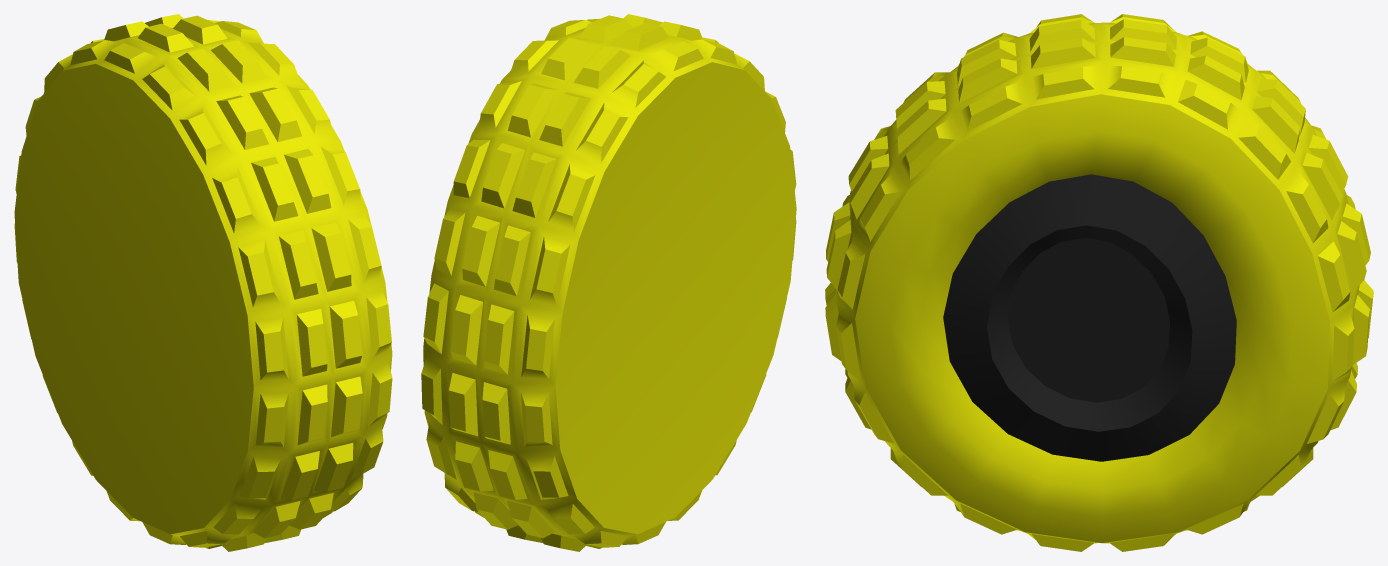
File: Deseases_04.fbx
The picture shows the model from 3 angles, left to right: view 1: azimuth 30°, elevation 25°; view 2: azimuth 150°, elevation 25°; view 3: azimuth 270°, elevation 25°; orthographic projection. The views are drawn at different scales.
Parts seen in each view (by area): view 1: Tire; view 2: Tire; view 3: Tire.
Part boxes in pixels (<box>): Tire: <box>14,14,392,551</box>; Tire: <box>421,14,796,551</box>; Tire: <box>825,14,1373,551</box>.
Bounding box in the file's own units: 28.19 × 83.14 × 82.38.
